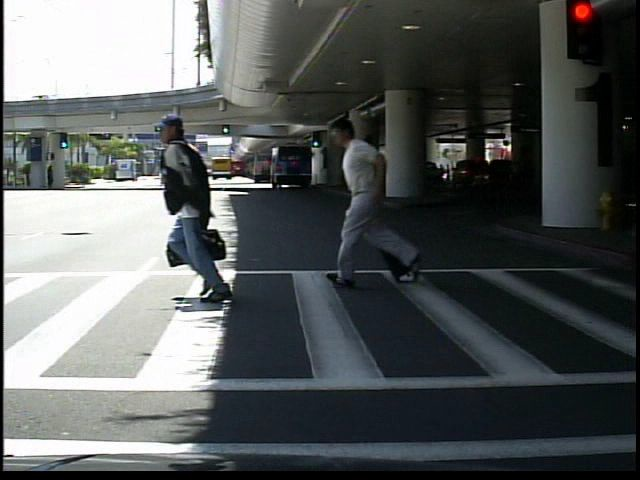person: (155, 115, 242, 306), (341, 113, 406, 288)
